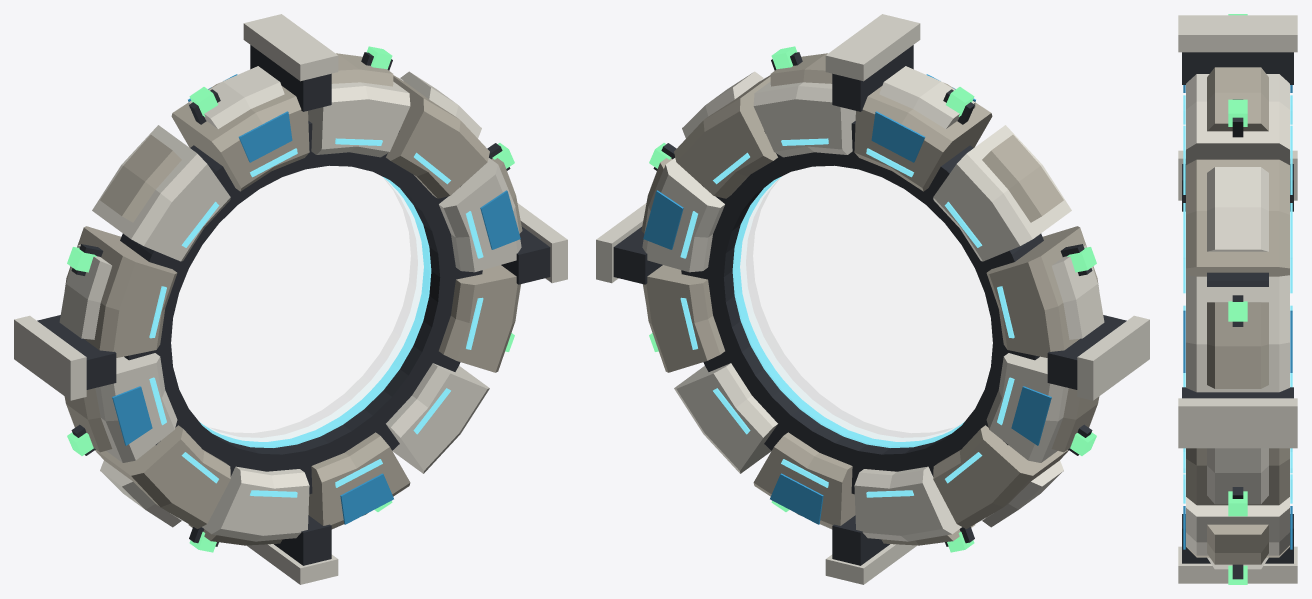
The model's file is gate_a.glb.
The picture shows the model from 3 angles, left to right: view 1: azimuth 30°, elevation 25°; view 2: azimuth 150°, elevation 25°; view 3: azimuth 270°, elevation 25°; orthographic projection. The views are drawn at different scales.
Visible parts, largest first — view 1: Gate_A; view 2: Gate_A; view 3: Gate_A.
Boxes of the visible parts, left/top/right/bottom form: Gate_A: left=14, top=14, right=567, bottom=584; Gate_A: left=596, top=14, right=1149, bottom=584; Gate_A: left=1178, top=14, right=1297, bottom=584.
Size of the model in its own units: 15.7 by 15.7 by 3.1.
